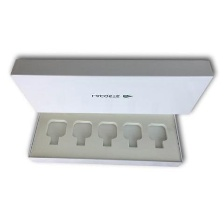book: (6, 52, 217, 172)
